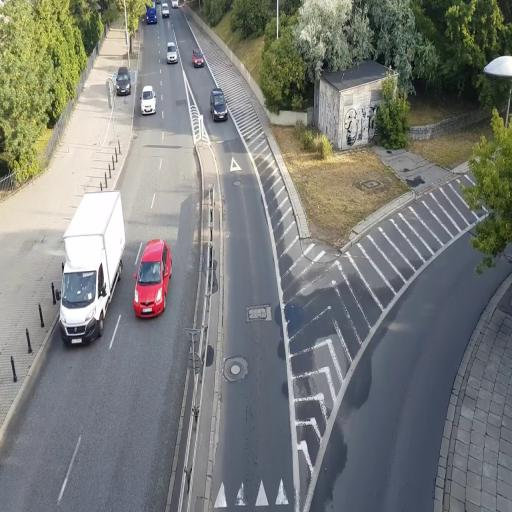vehicle: (58, 188, 126, 347), (59, 189, 127, 346), (132, 239, 172, 320), (210, 88, 228, 122), (114, 67, 132, 96), (140, 86, 156, 116), (166, 41, 178, 64), (191, 49, 205, 68)
